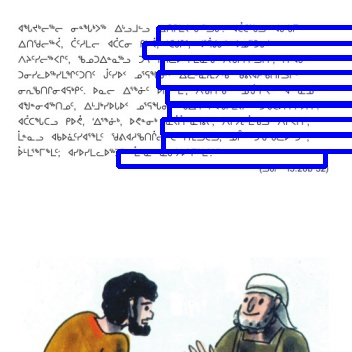inuktitut: (16, 127, 310, 143), (16, 19, 300, 35), (16, 81, 318, 96), (16, 112, 309, 127), (16, 98, 323, 112), (16, 65, 300, 80), (16, 51, 309, 65), (15, 36, 273, 50), (15, 144, 222, 159)
